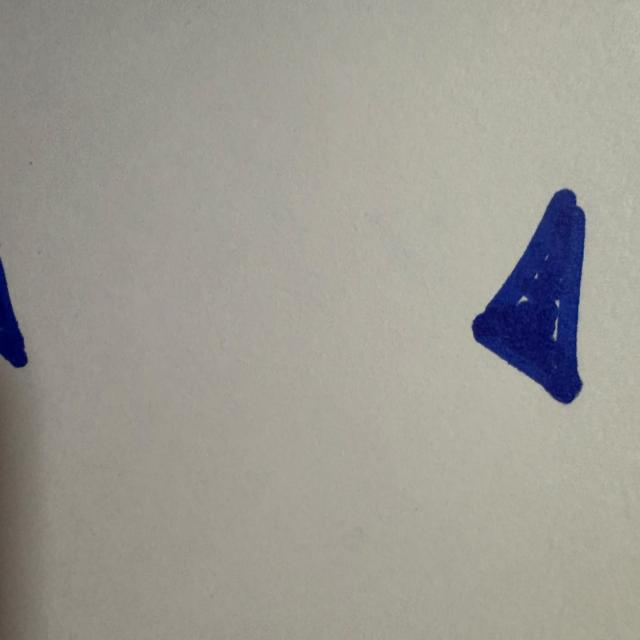Triangle: (472, 189, 585, 403)
